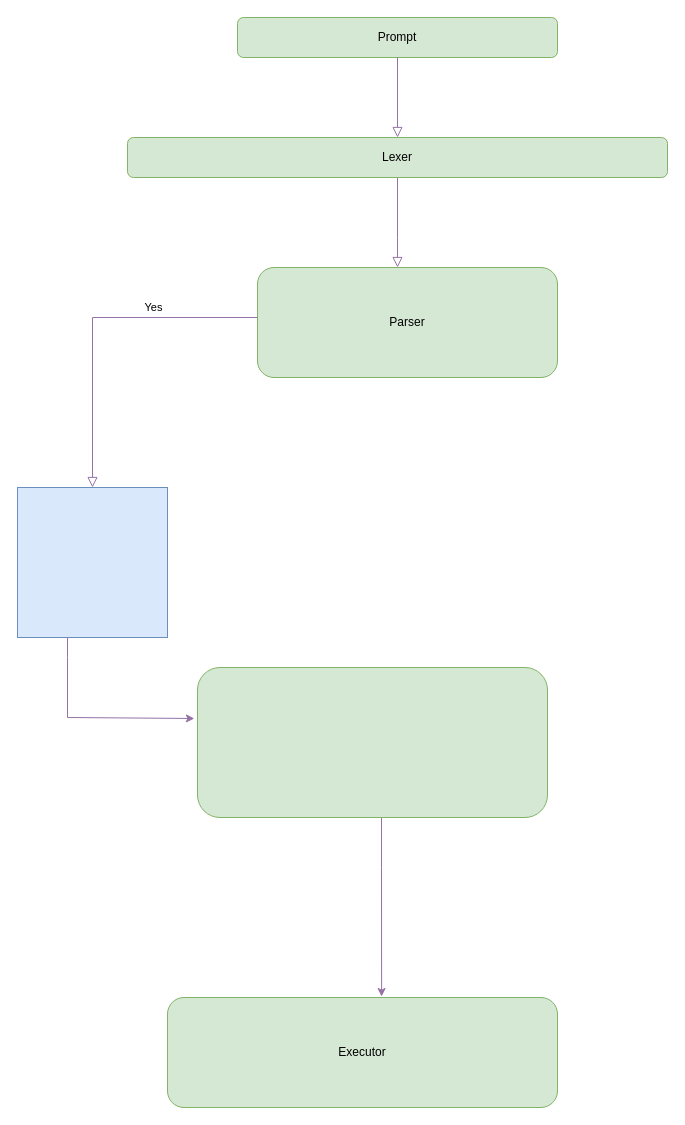
The diagram is 685 pixels wide and 1125 high, and some of its shapes have lost their labels. The centre of each missing label's shape, as x and y in pixels:
"Command Table + Arguments + Pipes + redirections + $" belongs at (x=92, y=562).
"Expander" belongs at (x=372, y=742).
